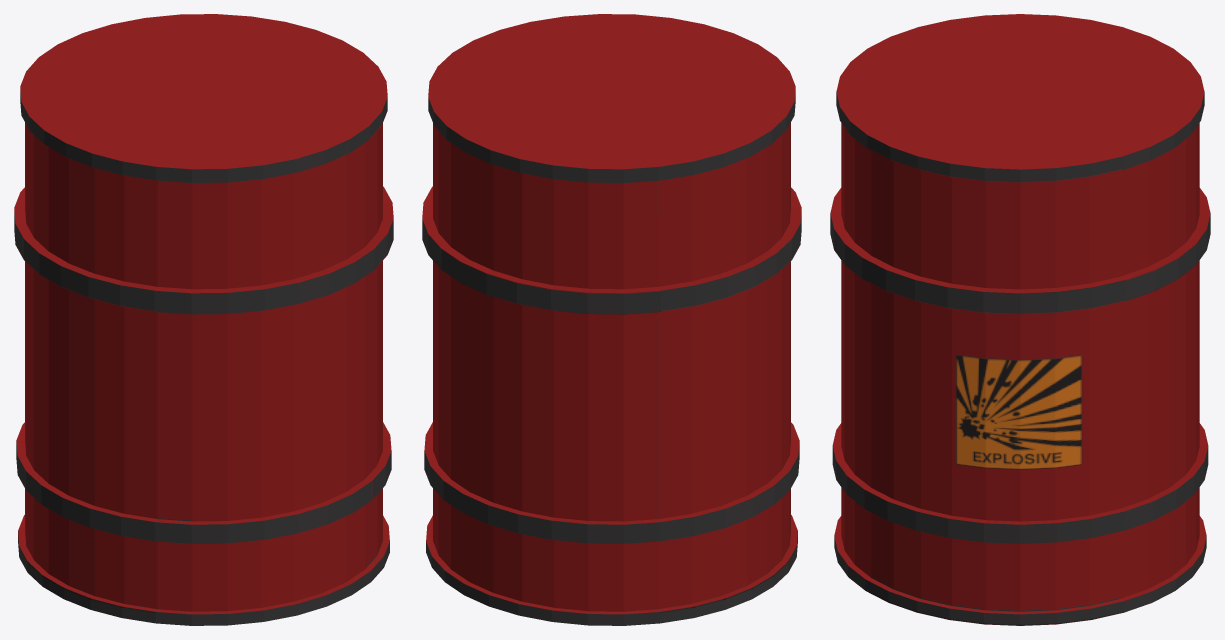
Rendered from Barrel.fbx.
3 views of the same model, side by side, from view 1: azimuth 30°, elevation 25°; view 2: azimuth 150°, elevation 25°; view 3: azimuth 270°, elevation 25° (orthographic).
Visible parts, largest first — view 1: Barrel; view 2: Barrel; view 3: Barrel.
Part boxes in pixels (x1,y1,x2,y2): Barrel: (14, 14, 393, 625); Barrel: (422, 14, 801, 625); Barrel: (830, 14, 1210, 625).
Size of the model in its own units: 0.5302 by 0.7009 by 0.5302.
Materials: 1 (1 with a texture image).
